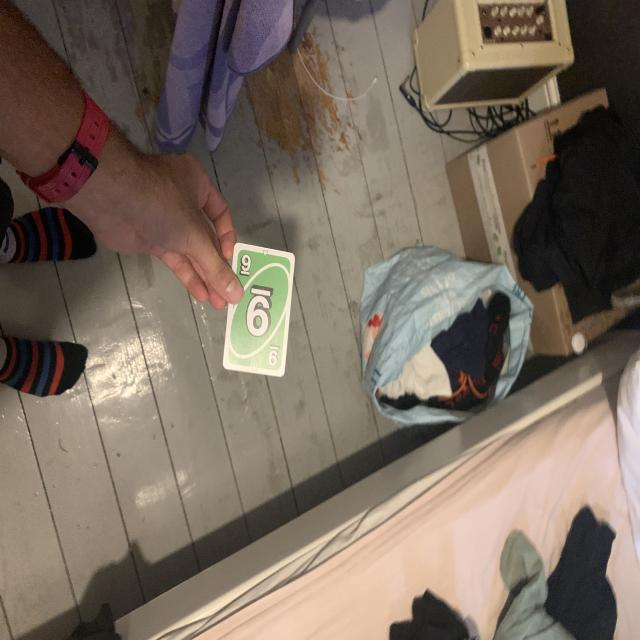lgreen-9: (236, 252, 253, 280)
